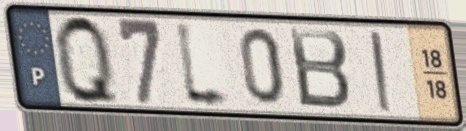0: (236, 25, 291, 110)
7: (114, 15, 165, 108)
B: (286, 25, 354, 113)
I: (366, 28, 396, 115)
L: (172, 16, 238, 115)
Q: (51, 11, 124, 111)
